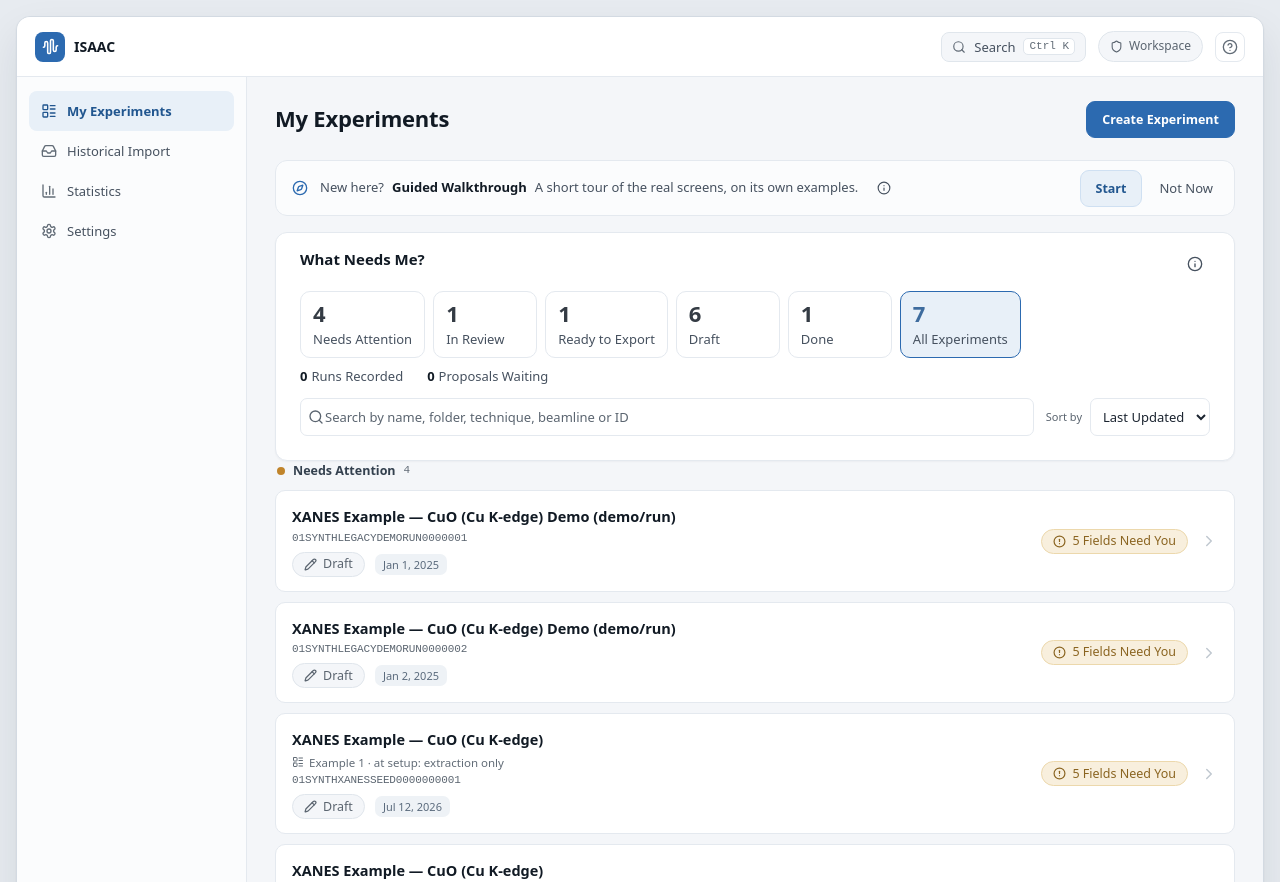
Scenario: P26.0b · Reset Worked Example — presence & treatment › renders the reset control in the worked-example bar in synthetic-only mode
Click the button with aria-label "Start Guided Walkthrough" at (1111,188), box [1080,170,1142,207]
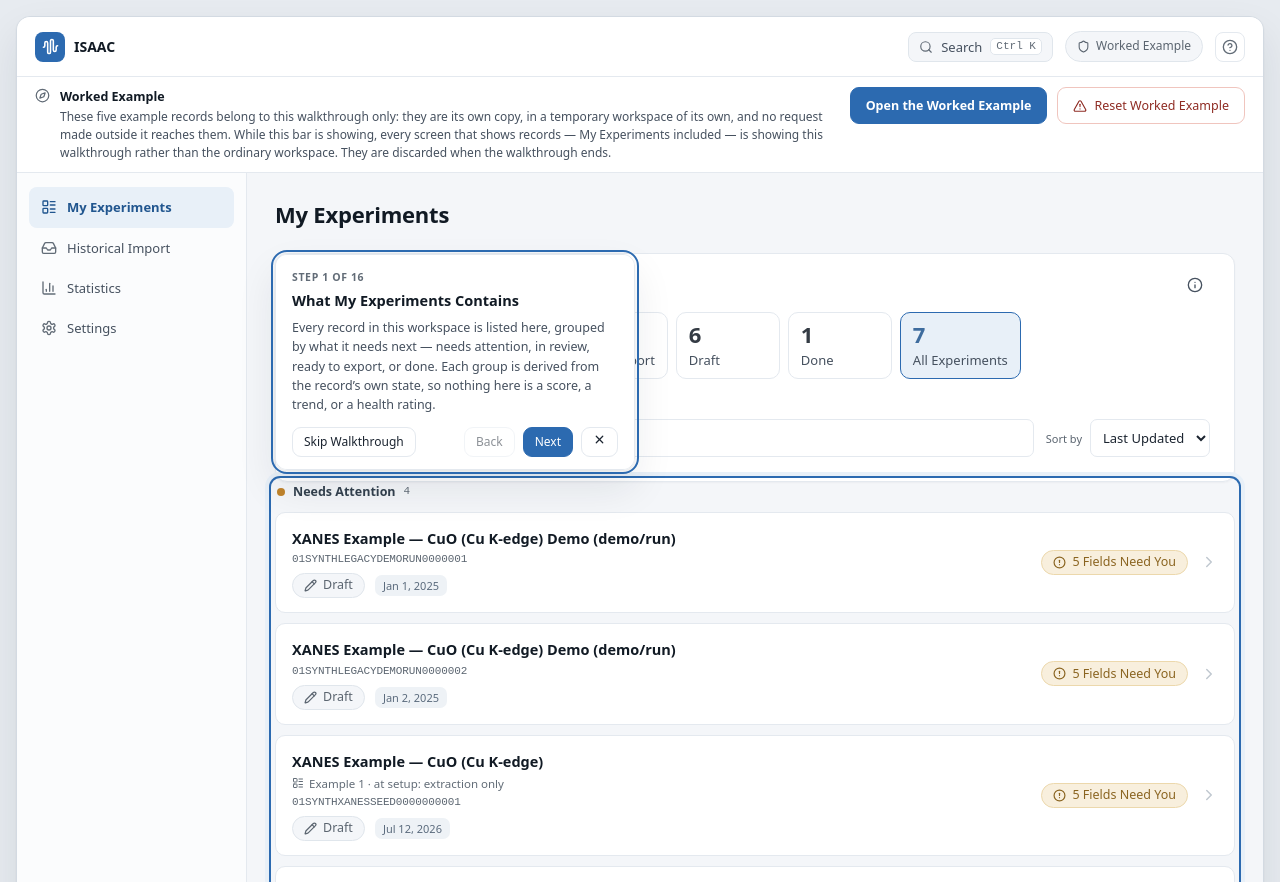
Now the button "Open the Worked Example" is shown, box [850,87,1047,124]
Now the button "Reset Worked Example" is shown, box [1057,87,1245,124]
Now the element named "Reset Worked Example" is shown, box [17,77,1263,173]
